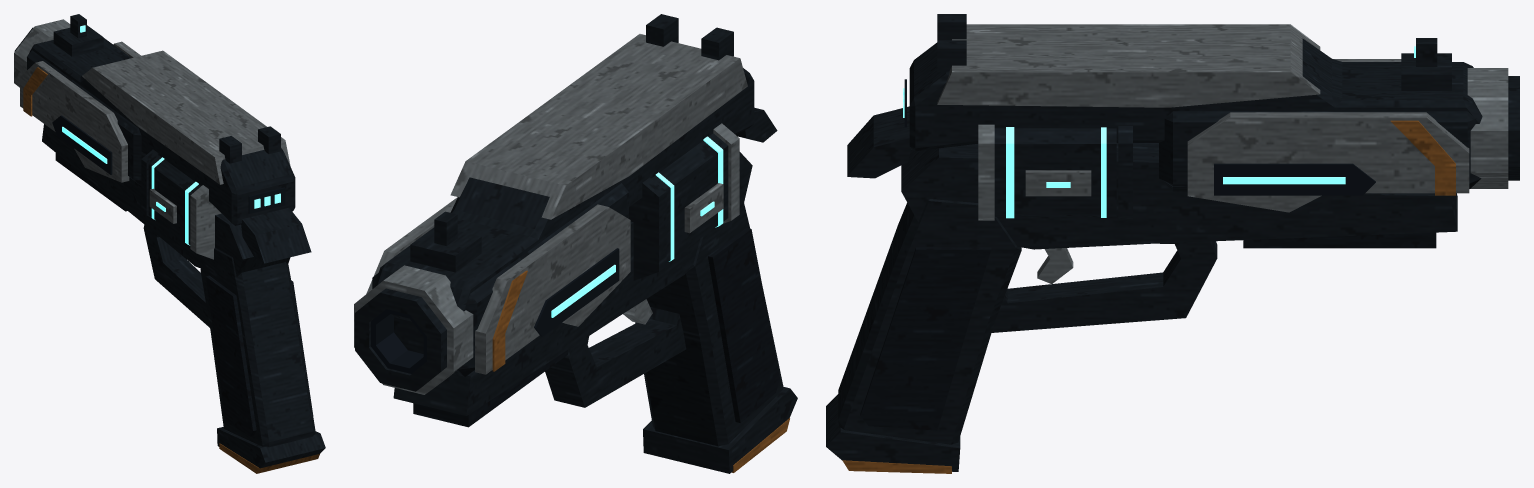
Rendered from starter_pistol.glb.
3 views of the same model, side by side, from view 1: azimuth 30°, elevation 25°; view 2: azimuth 150°, elevation 25°; view 3: azimuth 270°, elevation 25° (orthographic). The views are drawn at different scales.
Visible parts, largest first — view 1: StarterPistol_Mesh; view 2: StarterPistol_Mesh; view 3: StarterPistol_Mesh.
Part boxes in pixels (x1,y1,x2,y2): StarterPistol_Mesh: (14,14,325,473); StarterPistol_Mesh: (354,14,797,473); StarterPistol_Mesh: (826,14,1519,473).
Size of the model in its own units: 0.1 by 0.2845 by 0.424.
7 materials, 5 textured.
